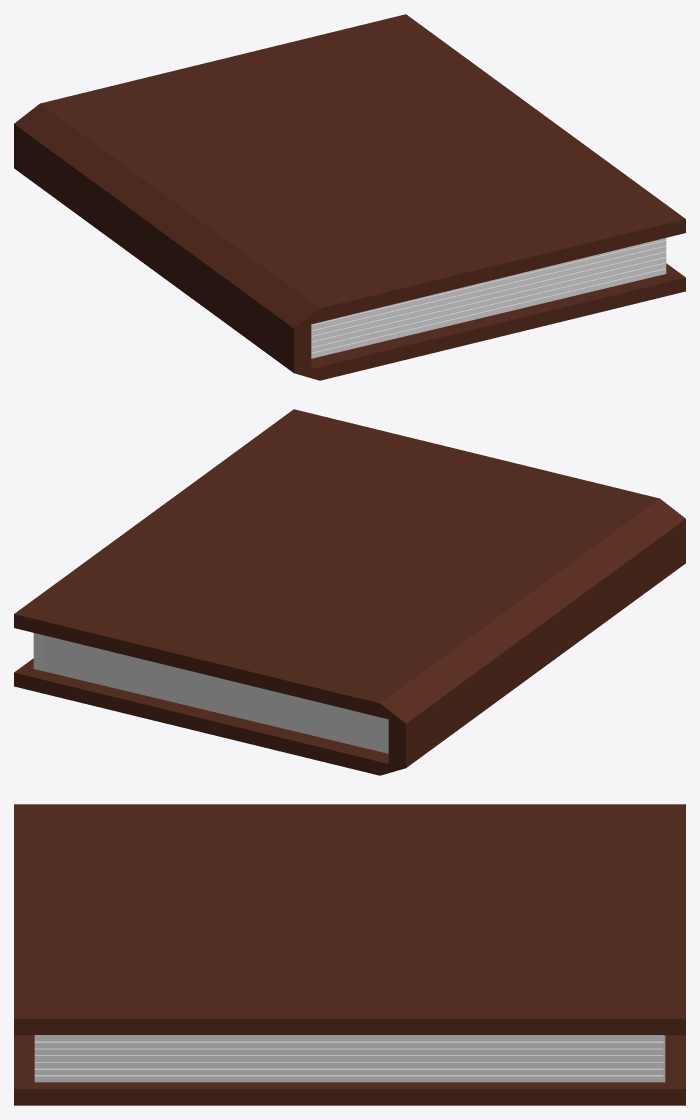
Rendered from buch.glb.
3 renders of one model, top to bottom at view 1: azimuth 30°, elevation 25°; view 2: azimuth 150°, elevation 25°; view 3: azimuth 270°, elevation 25°, orthographic. The views are drawn at different scales.
Visible parts, largest first — view 1: Plane; view 2: Plane; view 3: Plane.
Part boxes in pixels (bbox=[...]): Plane: bbox=[14, 14, 685, 380]; Plane: bbox=[14, 409, 685, 775]; Plane: bbox=[14, 804, 685, 1105].
Bounding box in the file's own units: 2.38 × 0.42 × 2.94.
